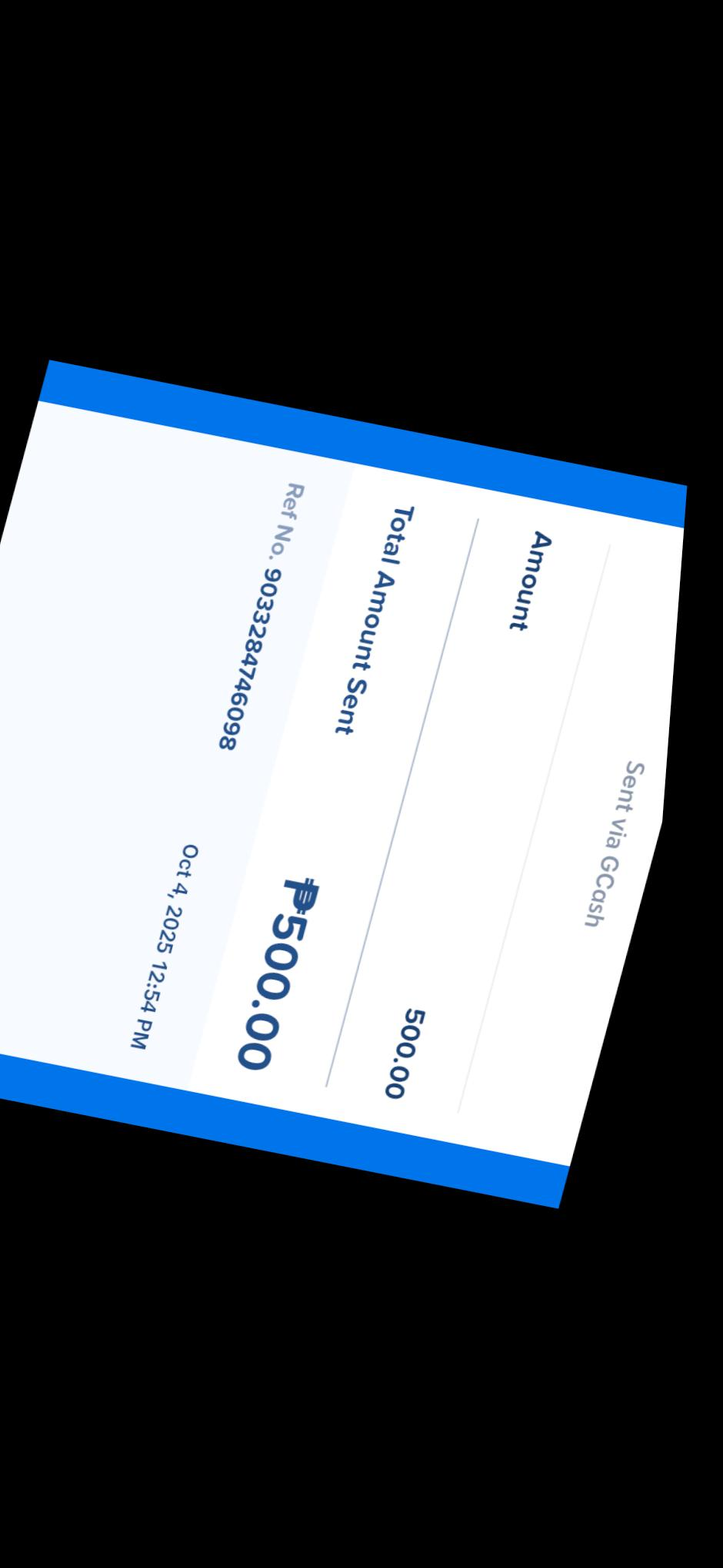Receipt: (0, 360, 687, 1208)
